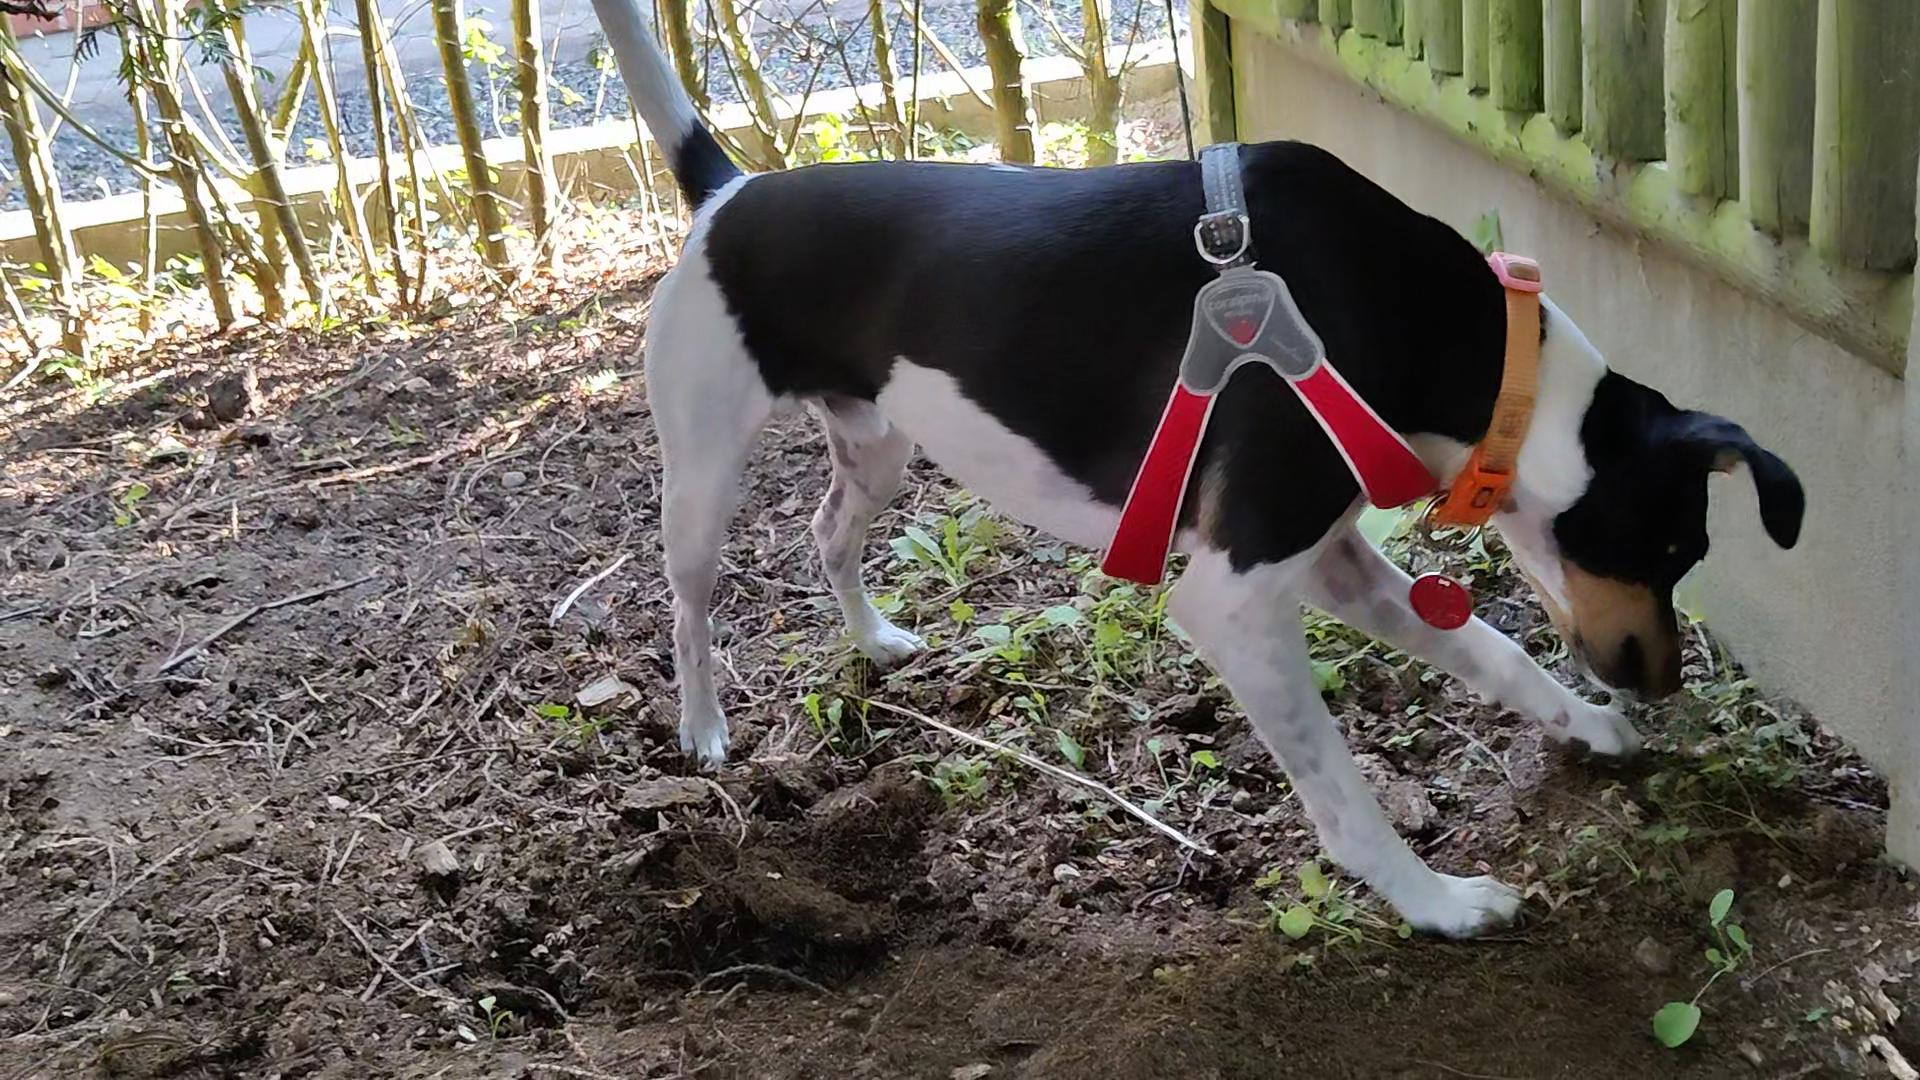Dog: (575, 0, 1812, 953)
